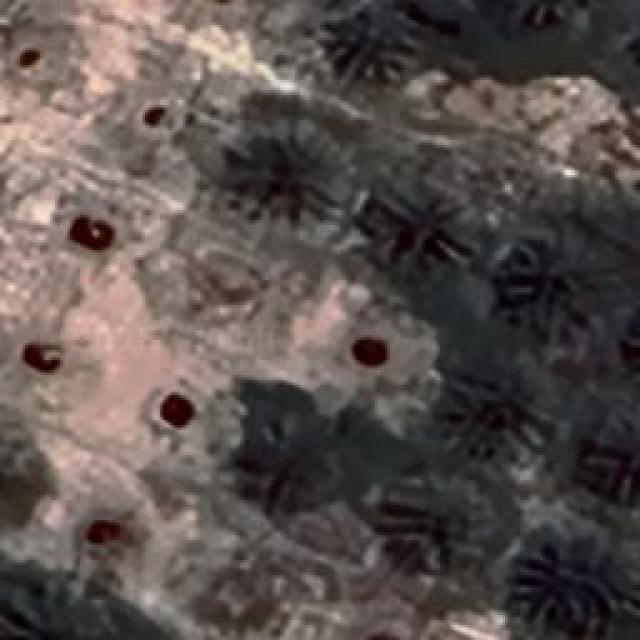PalmTree: (536, 532, 626, 638), (506, 232, 599, 332), (385, 485, 493, 570), (228, 125, 320, 220), (456, 365, 549, 450), (243, 410, 338, 490), (324, 2, 418, 82), (376, 182, 470, 262), (0, 570, 82, 640), (582, 410, 640, 490), (507, 0, 587, 22)
